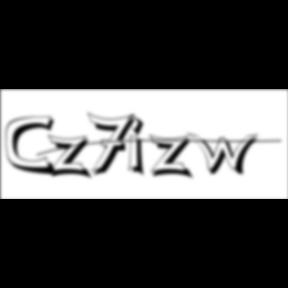7: (88, 111, 142, 179)
C: (6, 115, 60, 178)
i: (128, 112, 152, 180)
w: (188, 132, 266, 178)
z: (148, 134, 198, 182), (48, 134, 96, 182)
